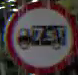Heavy Vehicles: (4, 2, 77, 74)
